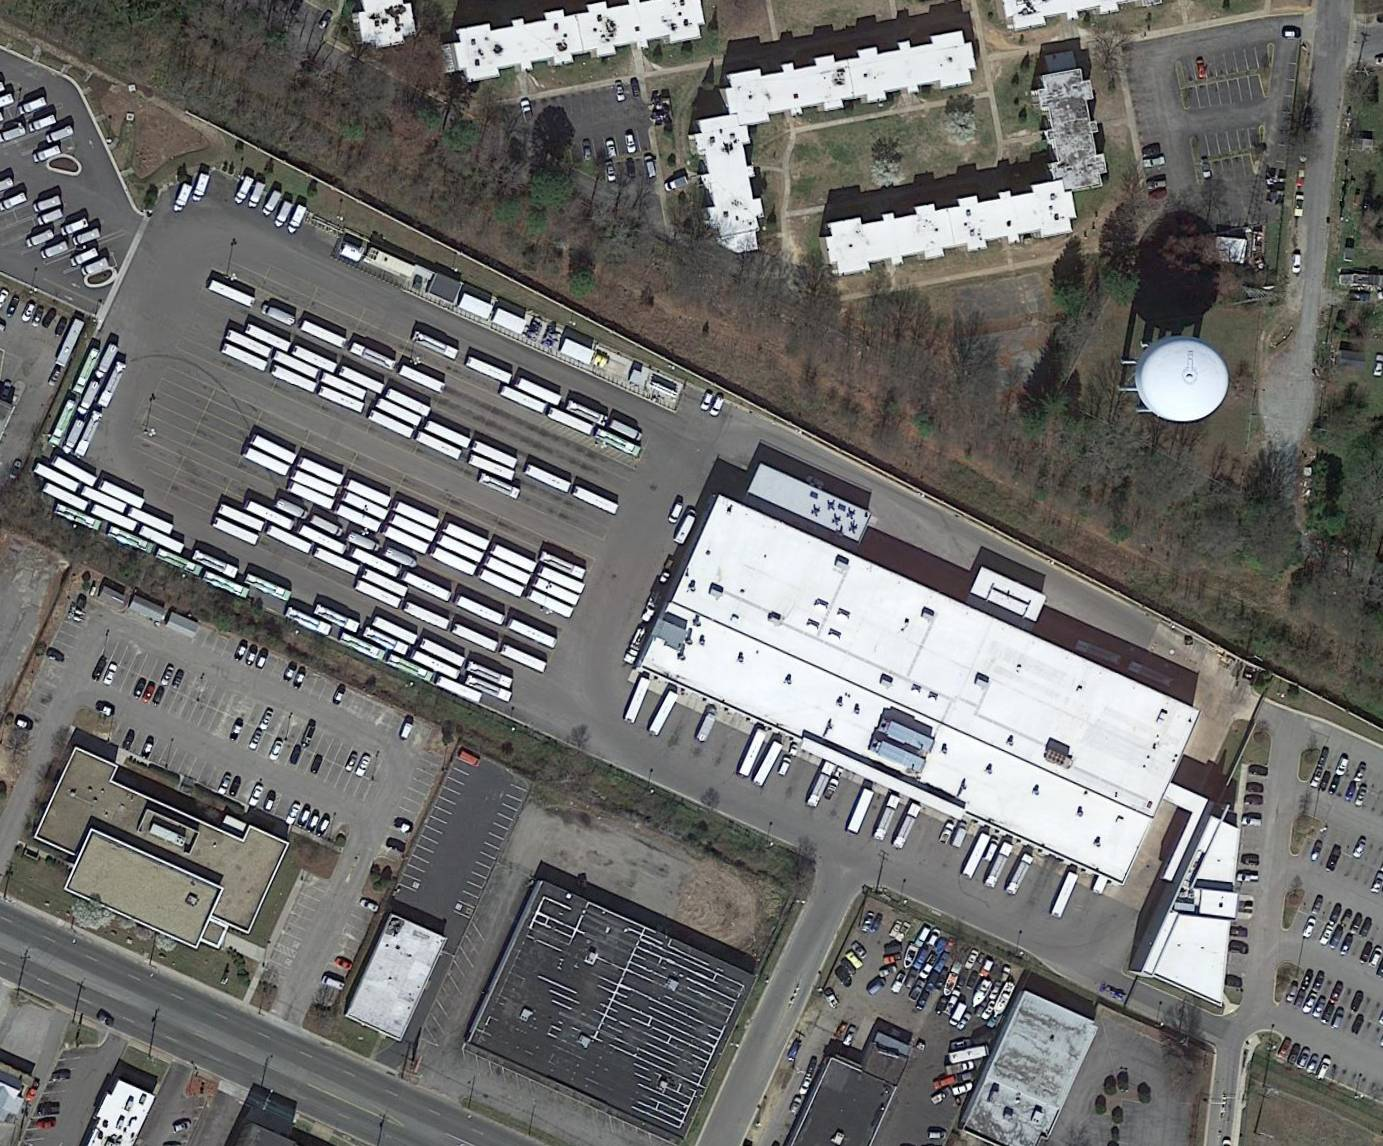large vehicle: (454, 593, 507, 627), (400, 570, 453, 602), (507, 618, 559, 650), (296, 522, 348, 555), (350, 545, 402, 578), (244, 500, 296, 531), (51, 455, 99, 488), (499, 643, 550, 674), (410, 649, 462, 680), (525, 588, 575, 619), (482, 555, 533, 586), (428, 545, 479, 576), (593, 427, 643, 458), (381, 524, 431, 555), (341, 490, 391, 521), (392, 500, 441, 531), (397, 363, 447, 394), (337, 364, 386, 395), (806, 760, 837, 810), (536, 565, 587, 595), (403, 601, 451, 632), (451, 622, 500, 653), (411, 330, 459, 361), (384, 387, 432, 418), (572, 483, 620, 514), (415, 429, 463, 460), (893, 802, 924, 850), (419, 637, 468, 668), (532, 576, 581, 606), (343, 478, 393, 508), (217, 503, 266, 533), (361, 568, 410, 598), (354, 579, 403, 609), (546, 406, 595, 436), (244, 323, 293, 353), (524, 463, 573, 493), (386, 653, 435, 683), (98, 479, 147, 509), (739, 728, 768, 777), (155, 547, 204, 576), (202, 570, 252, 599), (33, 462, 80, 493), (286, 481, 337, 510), (334, 503, 383, 533), (489, 543, 538, 573), (436, 533, 485, 563), (388, 512, 436, 542), (312, 545, 361, 575), (225, 330, 273, 359), (515, 377, 563, 406), (499, 385, 547, 415), (291, 344, 339, 374), (374, 397, 423, 427), (471, 440, 519, 470), (984, 841, 1014, 889), (339, 632, 387, 661), (371, 615, 419, 645), (72, 347, 102, 395), (285, 606, 333, 636), (312, 603, 361, 633), (208, 279, 256, 309), (252, 434, 298, 465), (961, 833, 992, 878), (754, 740, 785, 785), (649, 690, 680, 736), (424, 420, 473, 449), (464, 674, 513, 703), (107, 526, 156, 555), (244, 573, 293, 602), (244, 447, 291, 477), (213, 516, 260, 545), (298, 456, 345, 486), (350, 341, 397, 371), (466, 660, 513, 690), (80, 485, 128, 514), (363, 626, 410, 656), (75, 410, 105, 457), (442, 522, 490, 551), (478, 568, 526, 597), (300, 320, 348, 349), (221, 343, 269, 372), (271, 364, 319, 393), (368, 410, 416, 439), (468, 452, 516, 481), (539, 551, 587, 580), (873, 793, 902, 842), (90, 503, 138, 532), (192, 550, 240, 579), (43, 482, 88, 512), (847, 788, 876, 834), (98, 362, 128, 408), (289, 470, 339, 497), (317, 386, 366, 413), (54, 503, 103, 531), (466, 356, 513, 385), (273, 350, 320, 379), (1051, 872, 1080, 919), (49, 400, 78, 447), (138, 526, 186, 553), (266, 525, 312, 553), (436, 675, 482, 704), (624, 677, 652, 723), (320, 372, 368, 400), (128, 508, 175, 535), (566, 398, 610, 427), (1006, 852, 1035, 896), (478, 473, 521, 500), (76, 379, 103, 417), (93, 342, 119, 381), (62, 419, 86, 454)
small vehicle: (691, 703, 723, 744), (275, 496, 311, 522), (384, 545, 420, 571), (286, 203, 311, 237), (310, 514, 345, 539), (347, 531, 383, 553), (79, 255, 111, 279), (171, 181, 194, 215), (39, 238, 70, 262), (191, 172, 213, 206), (43, 123, 76, 145), (233, 175, 256, 206), (273, 199, 296, 230), (59, 215, 90, 238), (25, 227, 56, 250), (71, 226, 103, 248), (31, 193, 63, 215), (261, 188, 284, 218), (70, 246, 101, 268), (26, 113, 57, 134), (17, 94, 48, 116), (31, 144, 62, 164), (247, 180, 268, 210), (36, 207, 65, 227)
storage tank: (1137, 336, 1230, 423)
